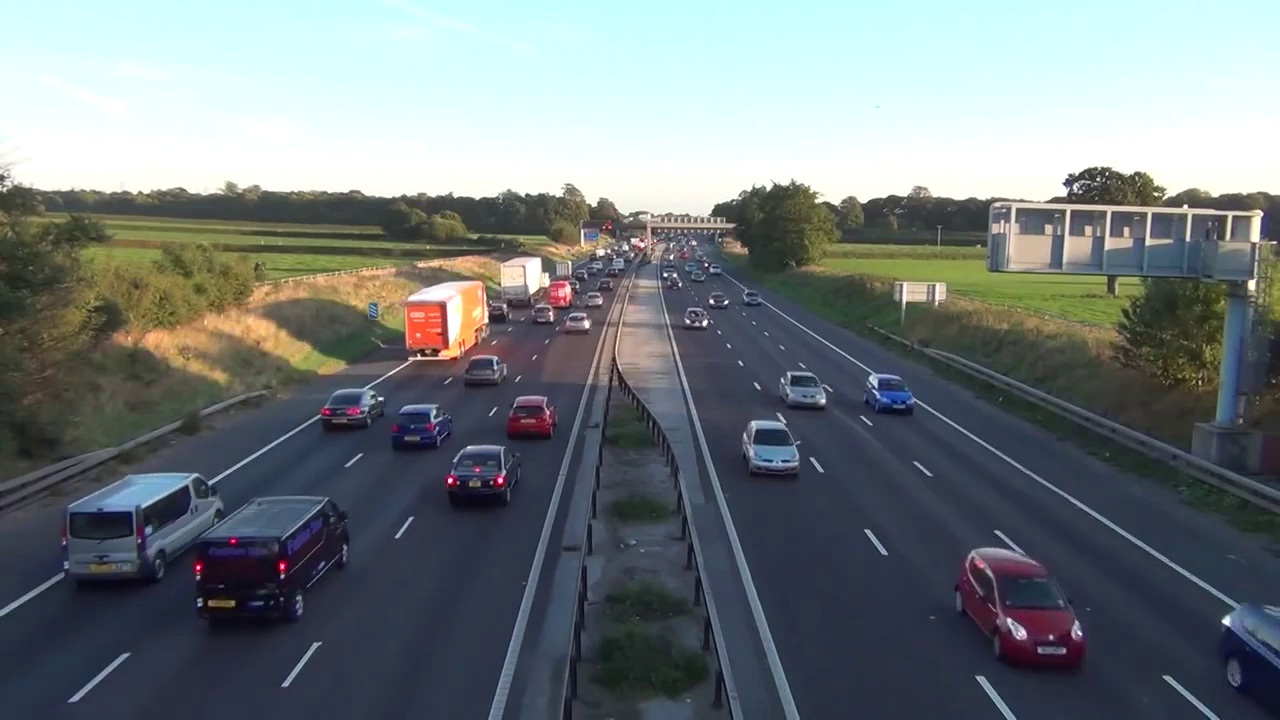bus: (948, 543, 1096, 679), (1213, 587, 1280, 713), (443, 438, 525, 513), (739, 416, 805, 480), (391, 401, 452, 457), (318, 386, 387, 433), (861, 368, 921, 421), (506, 390, 558, 440), (778, 367, 829, 410), (462, 353, 511, 390), (683, 306, 710, 333), (564, 311, 593, 335), (488, 301, 514, 324), (531, 304, 557, 324), (706, 292, 730, 311), (741, 288, 764, 306), (586, 289, 603, 309), (666, 275, 685, 291), (596, 276, 614, 291), (540, 270, 551, 294), (660, 267, 679, 280), (567, 278, 582, 293), (690, 269, 707, 282), (573, 269, 589, 281), (709, 264, 722, 277), (604, 265, 618, 277), (684, 262, 697, 273), (586, 264, 597, 275), (594, 259, 603, 272)
car: (400, 277, 491, 362), (499, 255, 544, 309), (554, 259, 575, 282)
lorry: (191, 490, 352, 631), (59, 466, 228, 594), (548, 282, 573, 309), (611, 257, 626, 270)
